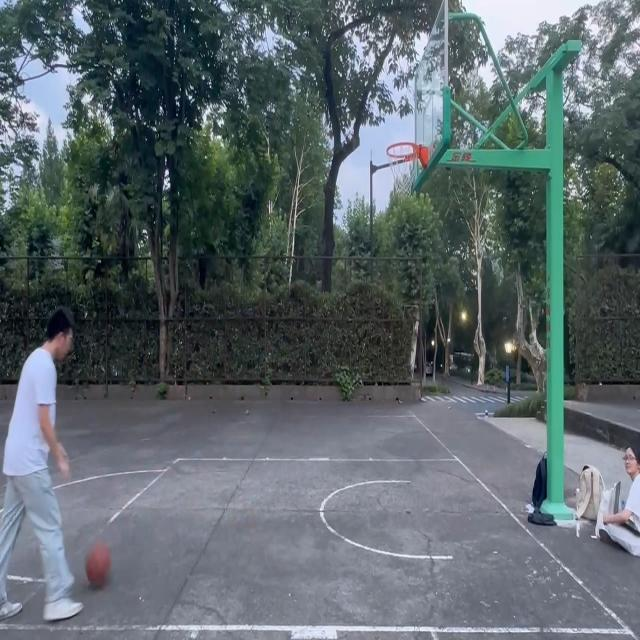basketball: (382, 142, 430, 196)
rim: (83, 538, 110, 590)
